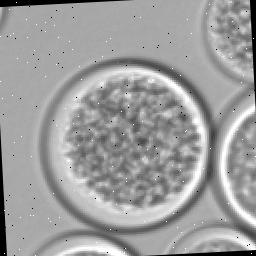picoshell: (37, 58, 209, 231), (213, 91, 256, 232), (200, 0, 252, 81), (31, 229, 133, 256), (164, 223, 256, 252), (0, 6, 6, 23)
